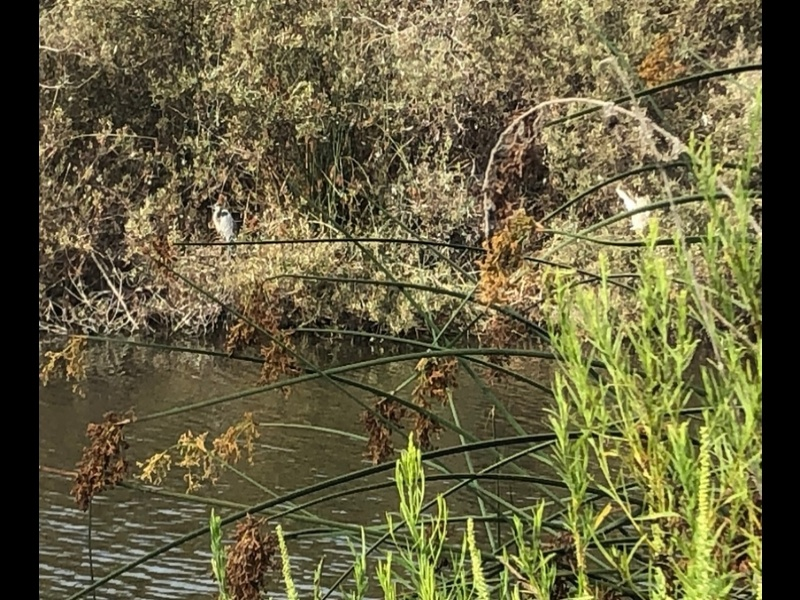heron: (209, 201, 240, 254)
